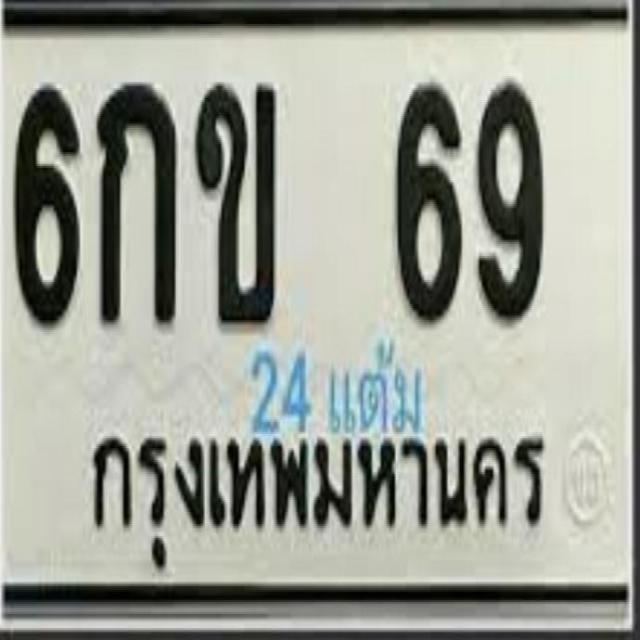6: (392, 79, 461, 322), (13, 84, 79, 326)
9: (475, 79, 543, 321)
A01: (95, 79, 176, 324)
A02: (193, 77, 276, 324)
BKK: (79, 405, 558, 578)
